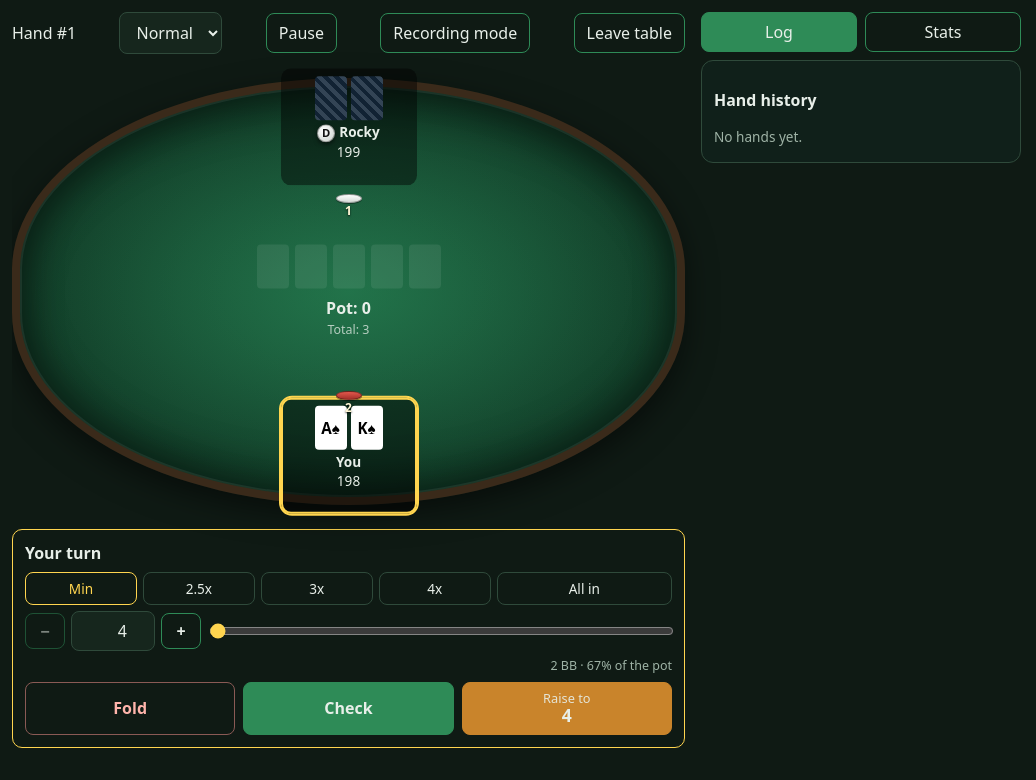
Test case: TableView › swaps the side column for the recording layout and leaves it on Escape
Click the button "Recording mode": (455, 33) x1=380 y1=13 x2=530 y2=53
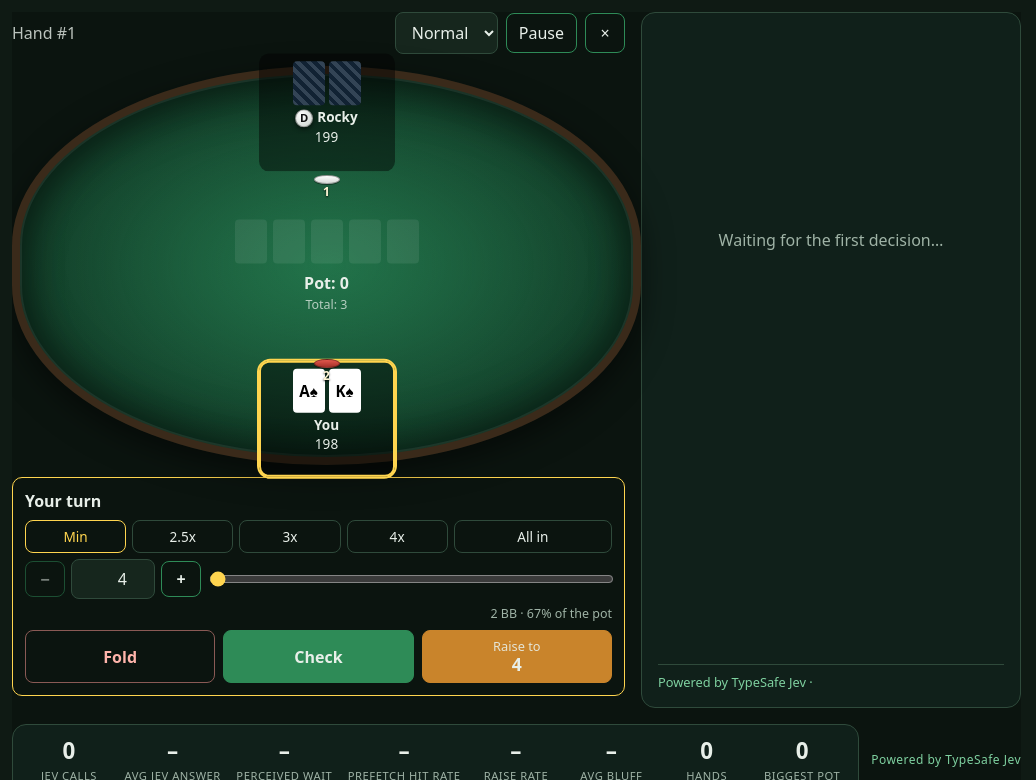
Check: the element with class "showcase-panel" is shown, box x1=641 y1=12 x2=1021 y2=708
Check: the text "Powered by TypeSafe Jev" is shown, box x1=871 y1=750 x2=1021 y2=768
Check: the heading "Hand history" is gone
Press Escape
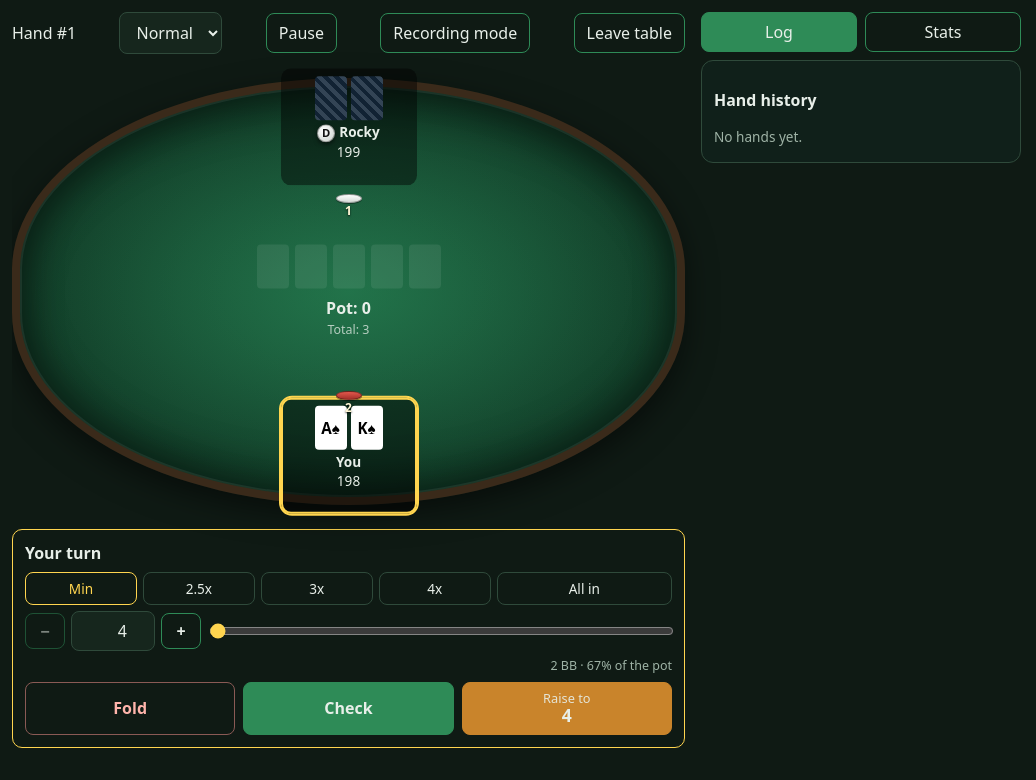
Check: the element with class "showcase-panel" is gone
Check: the button "Leave table" is shown, box x1=574 y1=13 x2=685 y2=53
